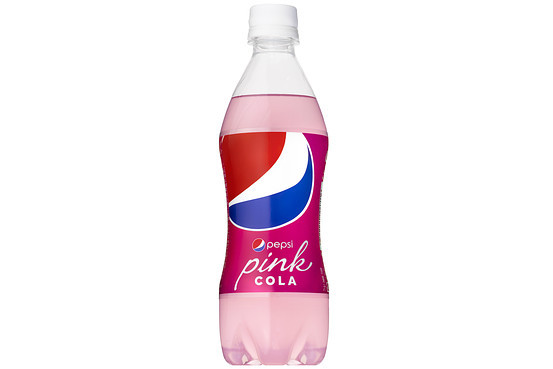pepsi: (217, 125, 312, 228)
